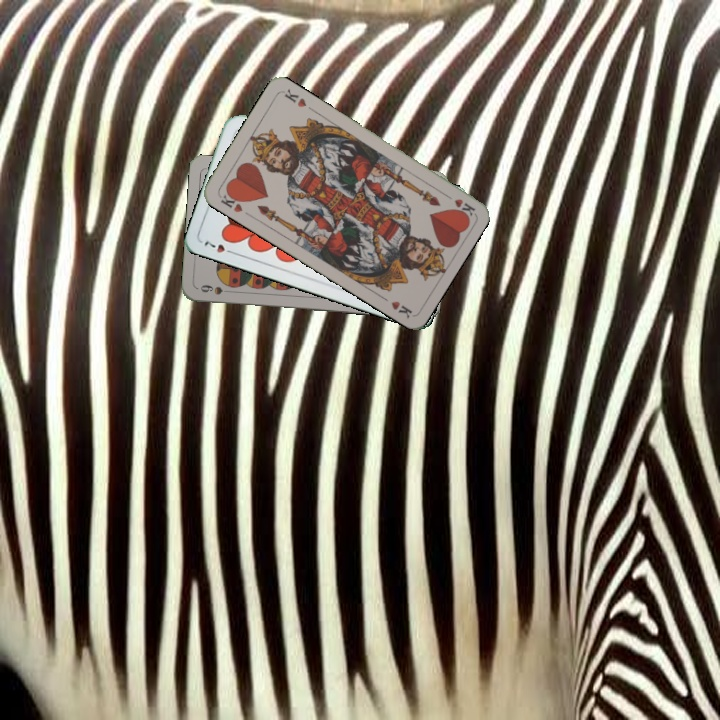H7: (200, 237, 238, 257)
HK: (439, 189, 477, 219), (216, 187, 246, 215)
S9: (196, 280, 236, 297)
